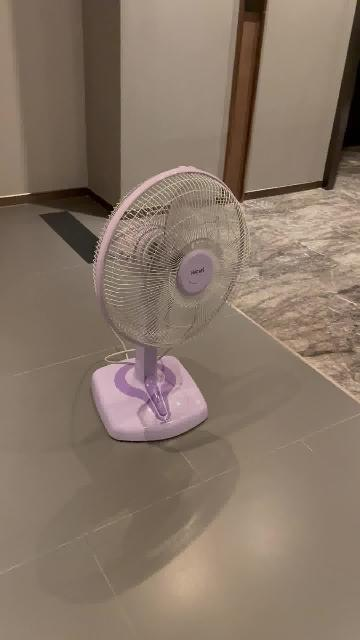Fan: (91, 166, 250, 443)
